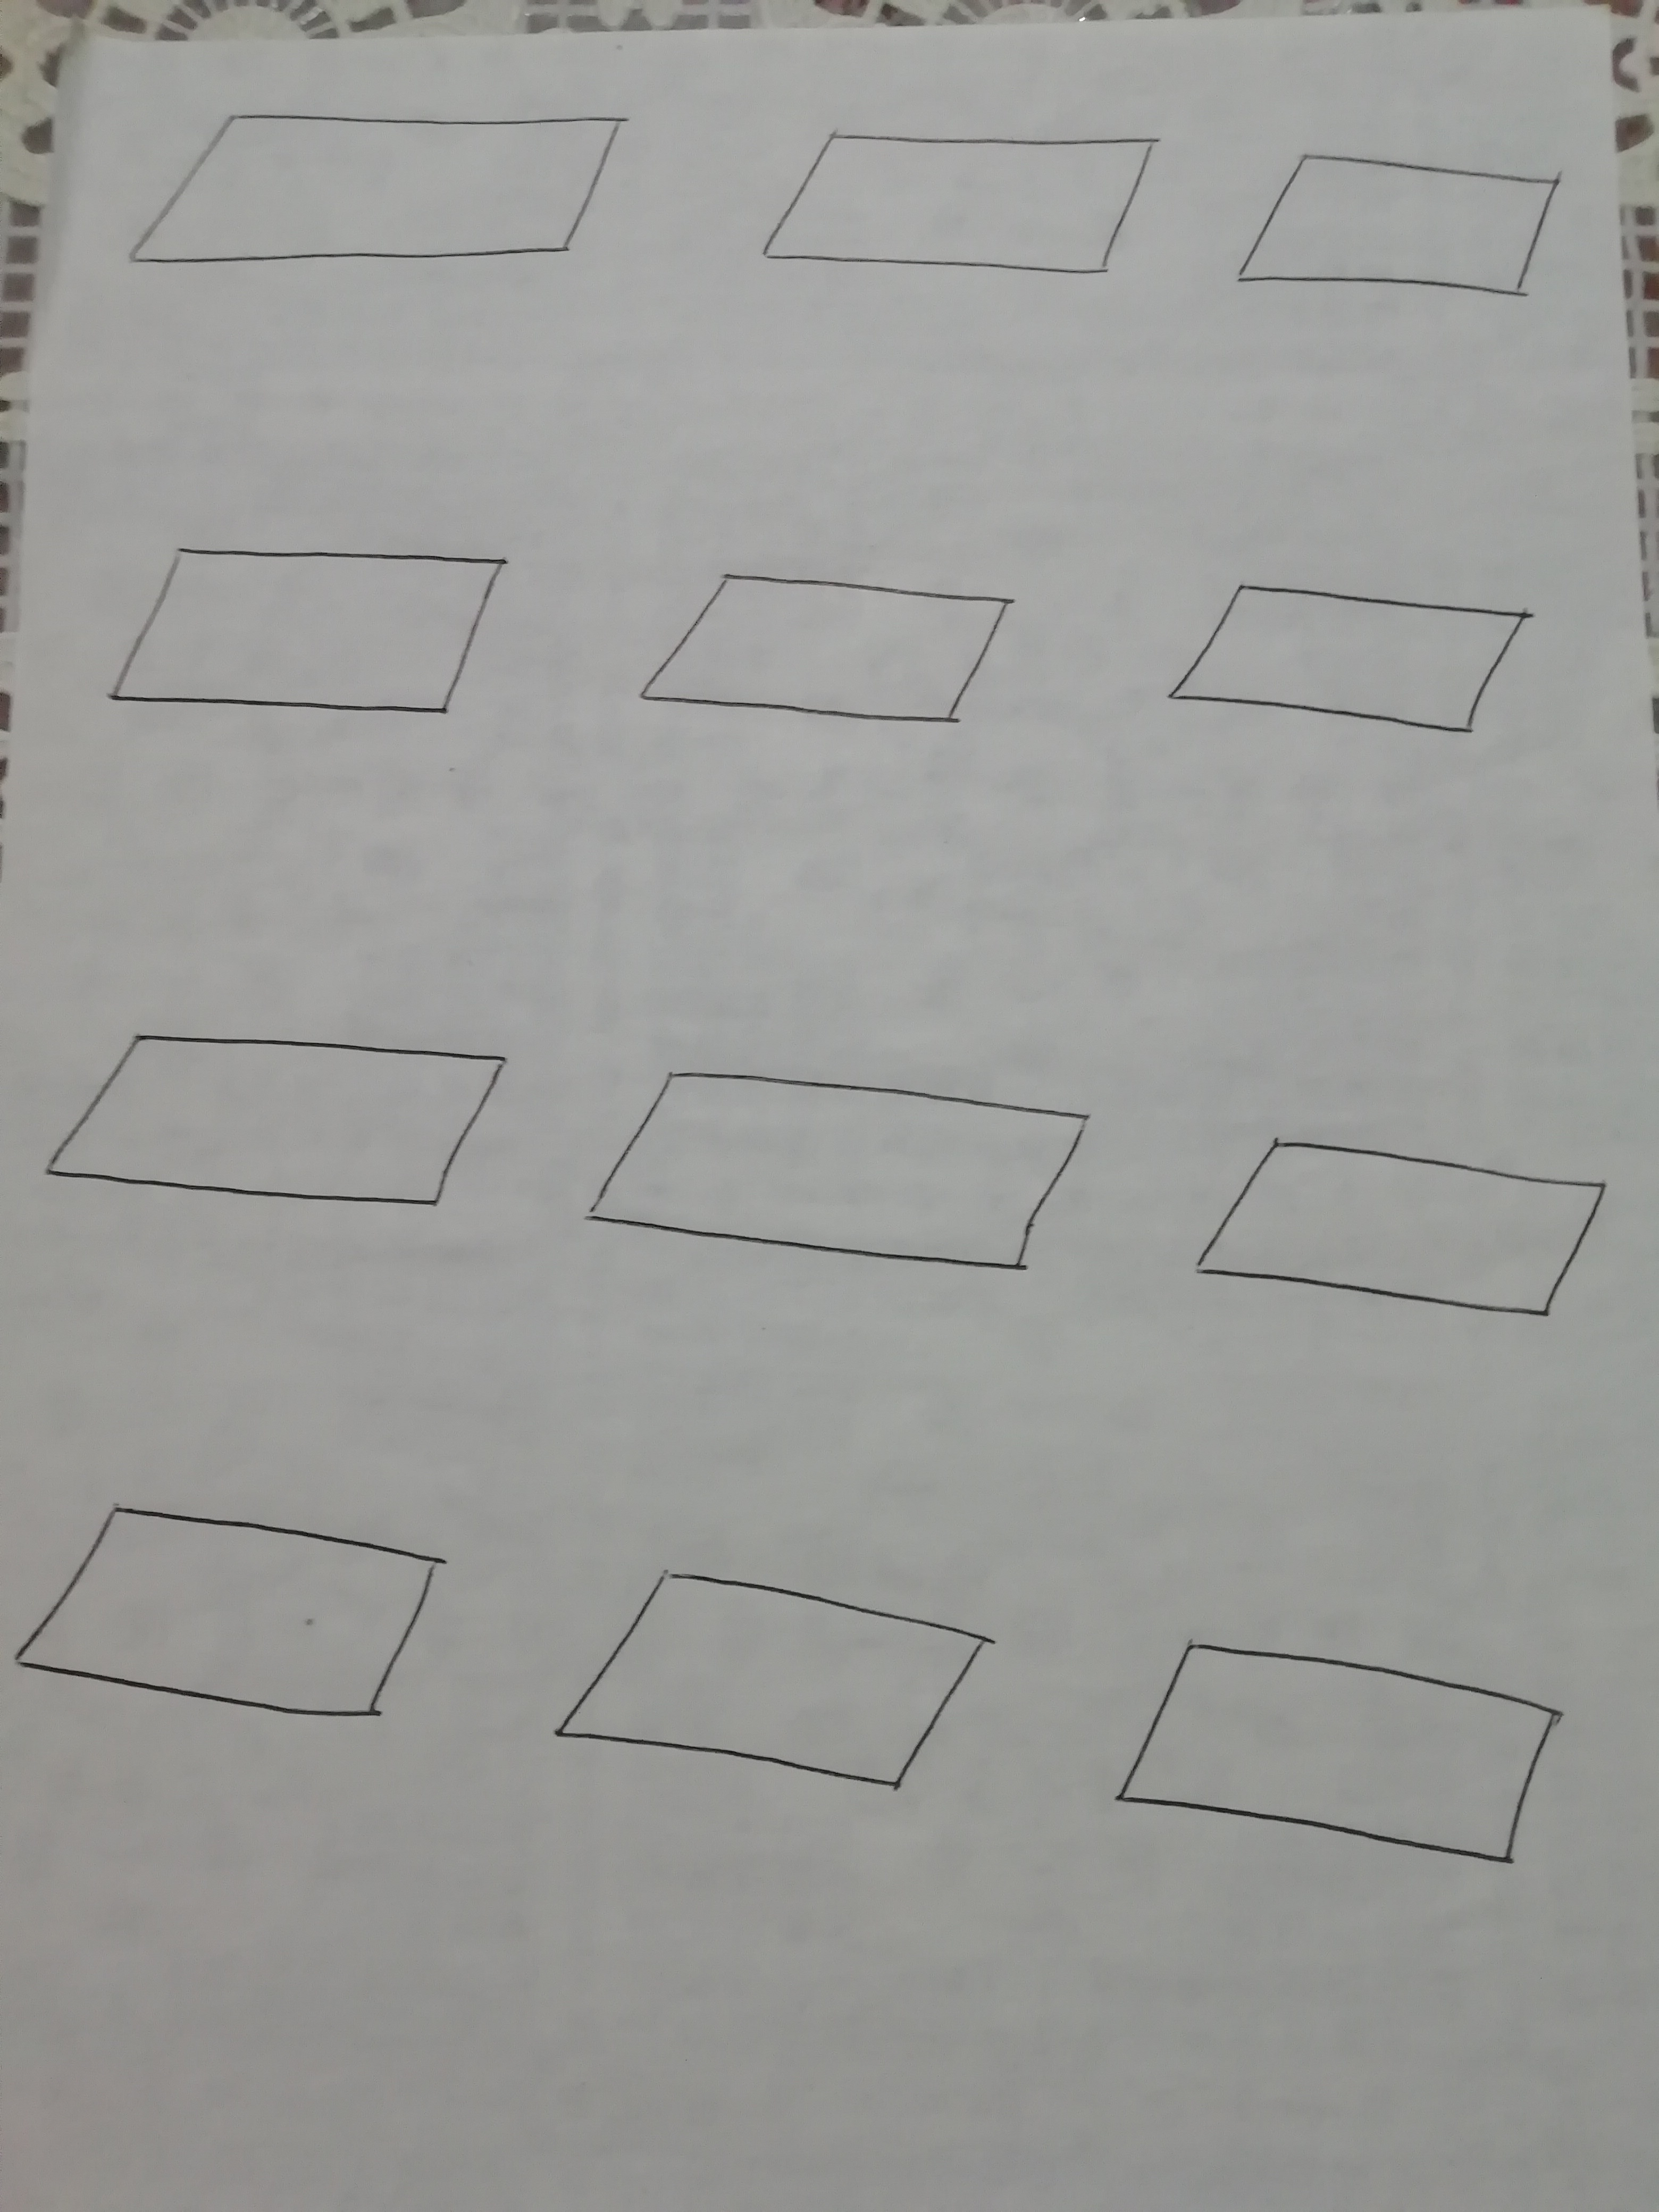scan: (1091, 1585, 1612, 1886), (537, 1527, 1030, 1843), (568, 1028, 1108, 1301), (19, 1000, 537, 1277), (0, 1475, 476, 1768), (108, 75, 660, 319), (1175, 1096, 1636, 1350), (70, 514, 540, 758), (1143, 545, 1565, 784), (721, 110, 1188, 319), (619, 538, 1026, 766), (1218, 120, 1593, 326)
